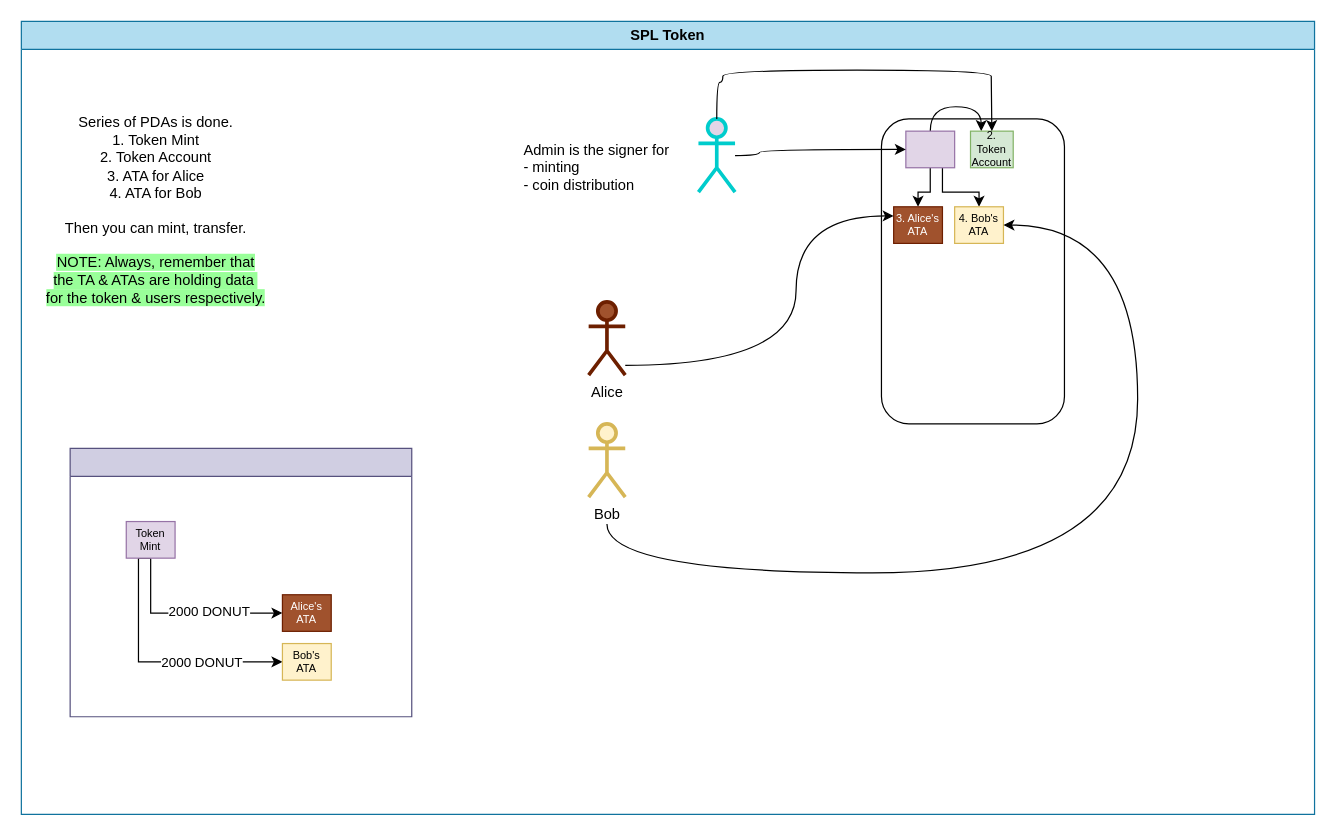
Some shapes in this 1336 by 836 pixel diagram are drawn without their labels. Here are the shapes that lost their labels. From the top down, the box of each, then its label:
(696, 117, 736, 193): Admin/Owner
(905, 130, 955, 168): 1. Token Mint
(880, 118, 1064, 424): TokenProgram (Default)
(69, 447, 412, 717): Transfer tokens
